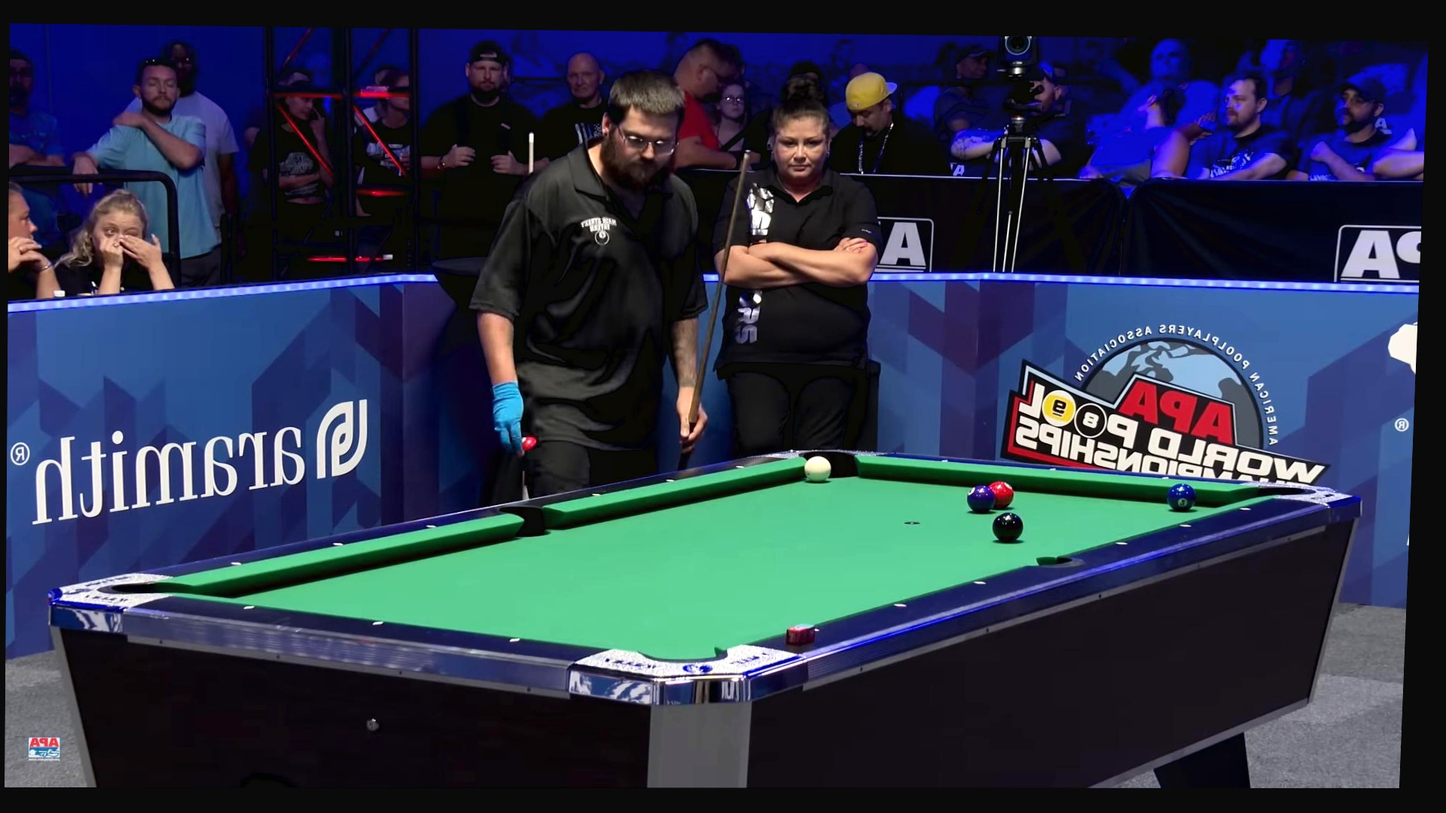Black: (992, 511, 1023, 544)
Cue: (803, 455, 832, 483)
Solid: (1113, 538, 1130, 549), (1044, 464, 1061, 475), (587, 489, 604, 500), (368, 617, 385, 628), (506, 634, 523, 645), (972, 577, 988, 588), (1158, 472, 1174, 483), (662, 475, 678, 486), (240, 601, 256, 612), (1238, 504, 1255, 514), (423, 521, 440, 531), (228, 559, 245, 569), (807, 625, 823, 635), (892, 600, 908, 610), (1178, 521, 1194, 531), (936, 456, 952, 466), (731, 462, 747, 472), (331, 539, 347, 549)
Striped: (1166, 482, 1197, 513), (967, 483, 996, 514), (987, 480, 1014, 511)
